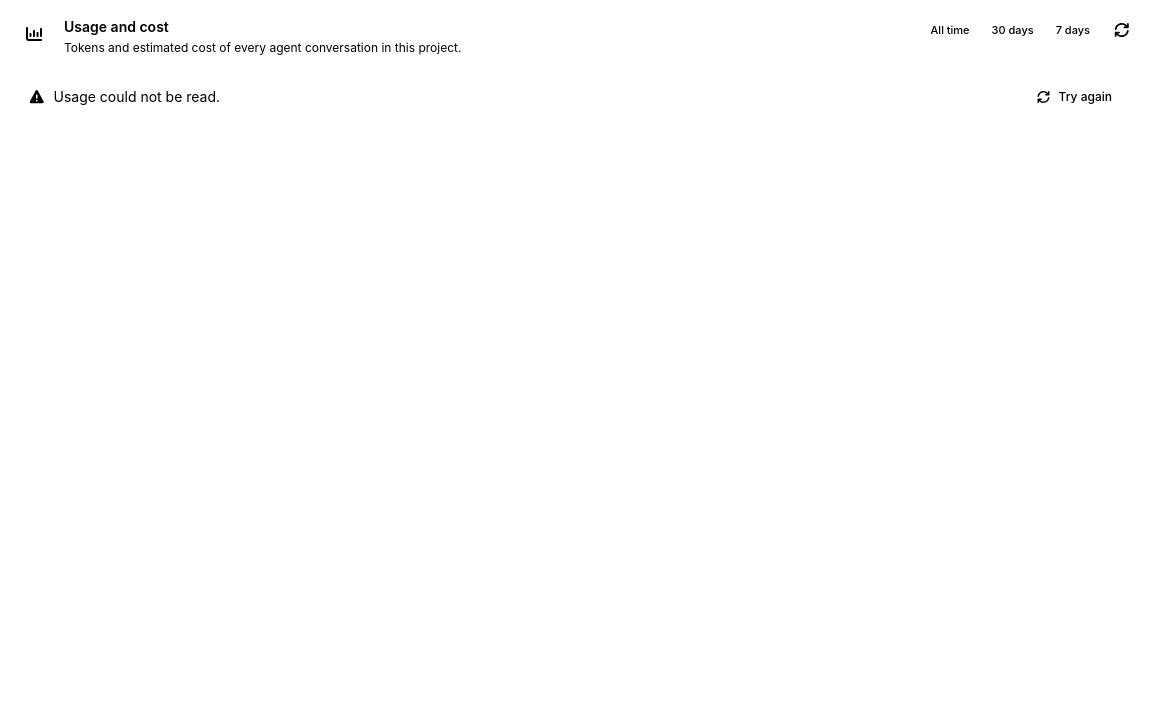
Test: ProjectUsageTab loading and failure › says so, and offers another try, when reading failed
The image size is (1152, 707).
Expected: the message shows "Usage could not be read", [54, 88, 220, 105]
Click the button "Try again".
click(1074, 97)  # box [1024, 83, 1124, 111]
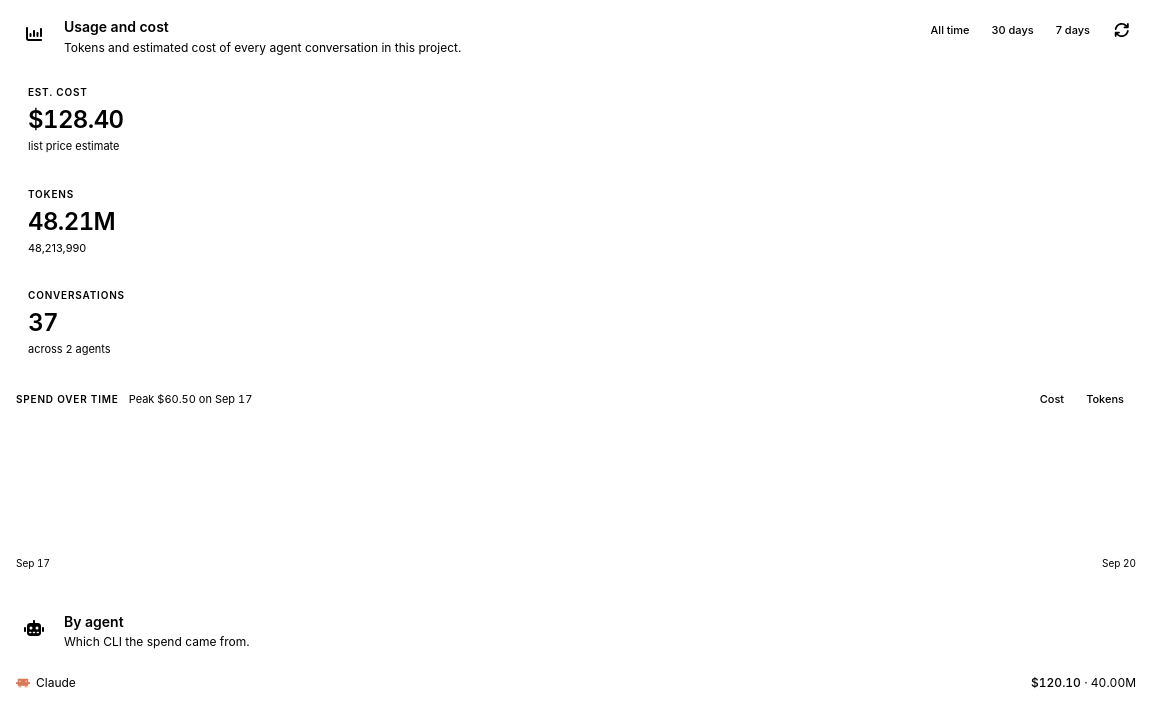
Now the text "$128.40" is shown, box [28, 105, 124, 134]
